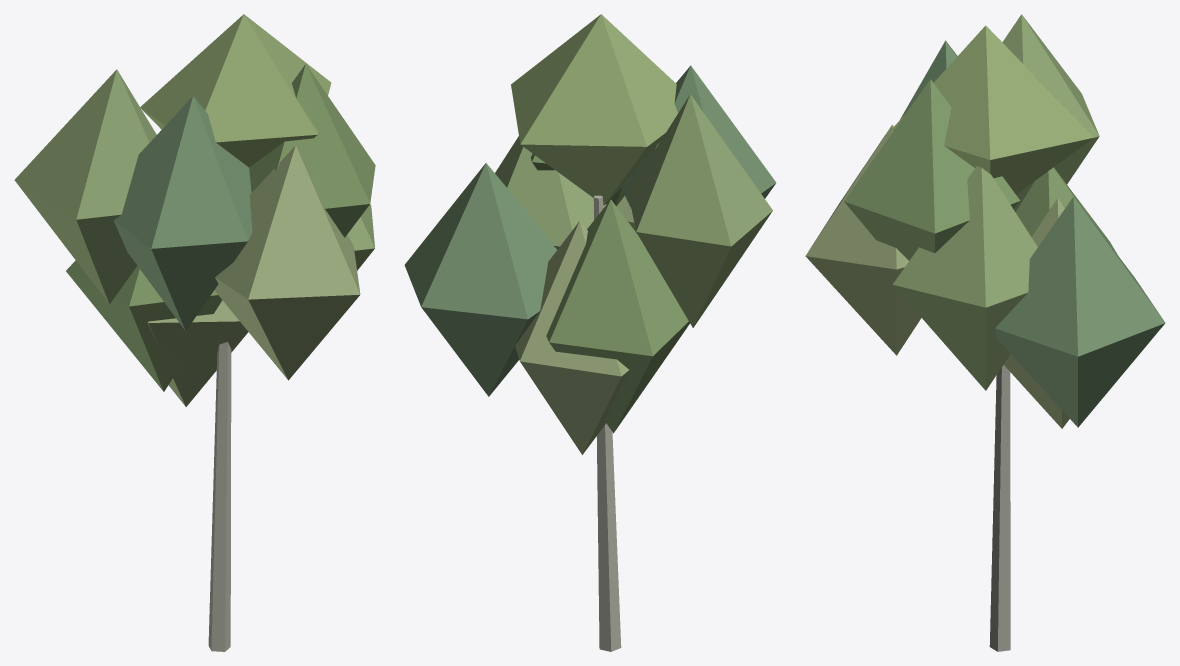
The picture shows the model from 3 angles, left to right: view 1: azimuth 30°, elevation 25°; view 2: azimuth 150°, elevation 25°; view 3: azimuth 270°, elevation 25°; orthographic projection.
Size of the model in its own units: 8.58 by 15.56 by 8.06.
